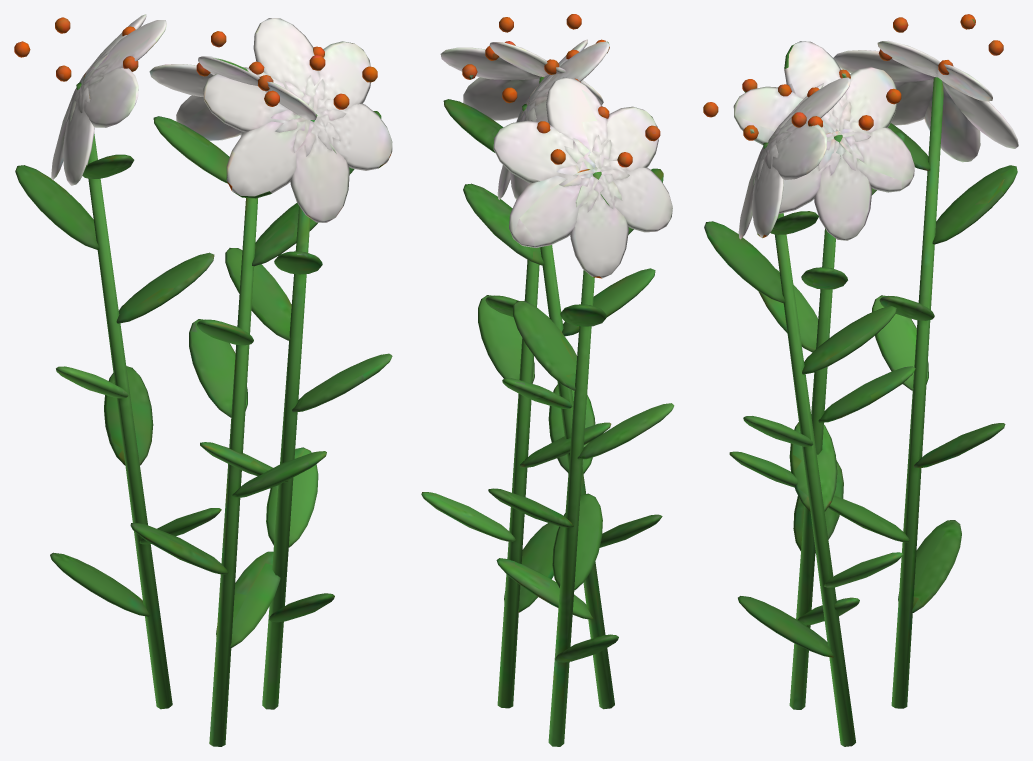
Rendered from crop_lily.glb.
3 renders of one model, left to right at view 1: azimuth 30°, elevation 25°; view 2: azimuth 150°, elevation 25°; view 3: azimuth 270°, elevation 25°, orthographic. The views are drawn at different scales.
Parts seen in each view (by area): view 1: crop_lily, fruit; view 2: crop_lily, fruit; view 3: crop_lily, fruit.
Part boxes in pixels (bbox=[...]): crop_lily: bbox=[14, 17, 392, 746]; fruit: bbox=[51, 14, 392, 222]; crop_lily: bbox=[421, 14, 674, 746]; fruit: bbox=[440, 39, 672, 278]; crop_lily: bbox=[703, 14, 1017, 746]; fruit: bbox=[733, 40, 1018, 240].
Bounding box in the file's own units: 0.1583 × 0.3735 × 0.1607.
Materials: 1 (1 with a texture image).
